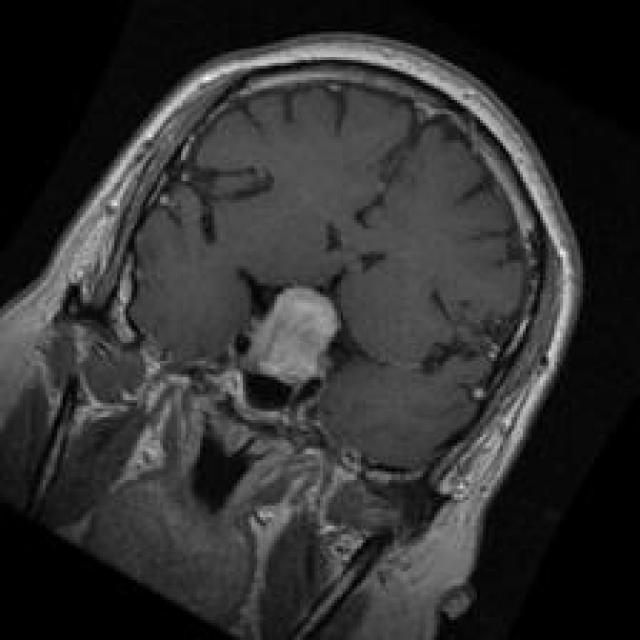pituitary_tumor: (232, 275, 352, 403)
